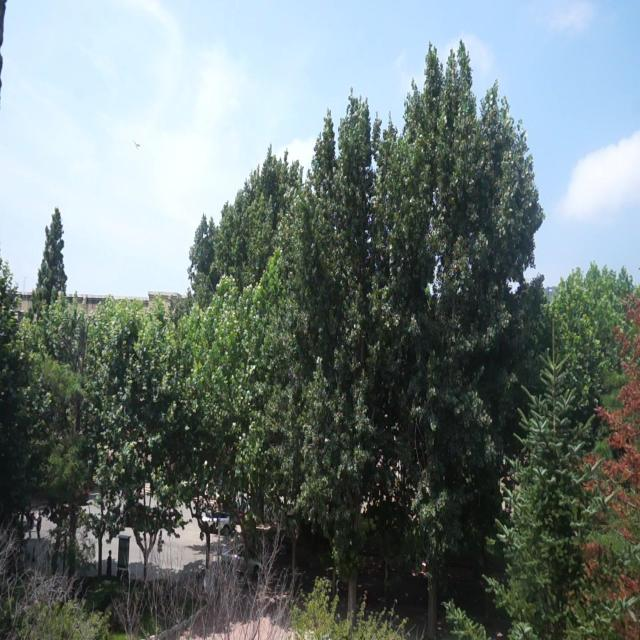drone: (131, 137, 142, 153)
